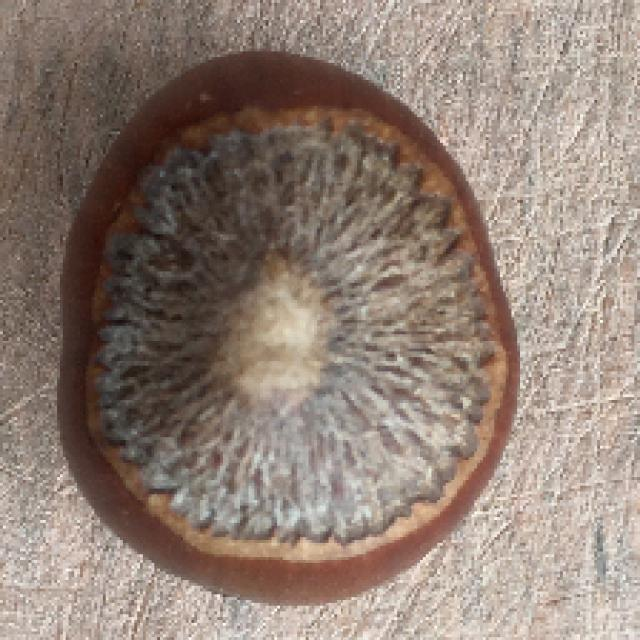damagedHazelnut: (61, 46, 524, 608)
